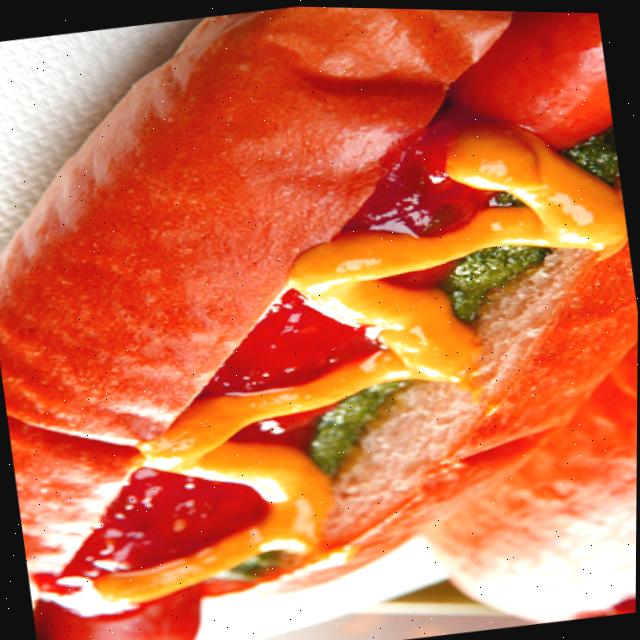汉堡快餐: (0, 0, 640, 613)
